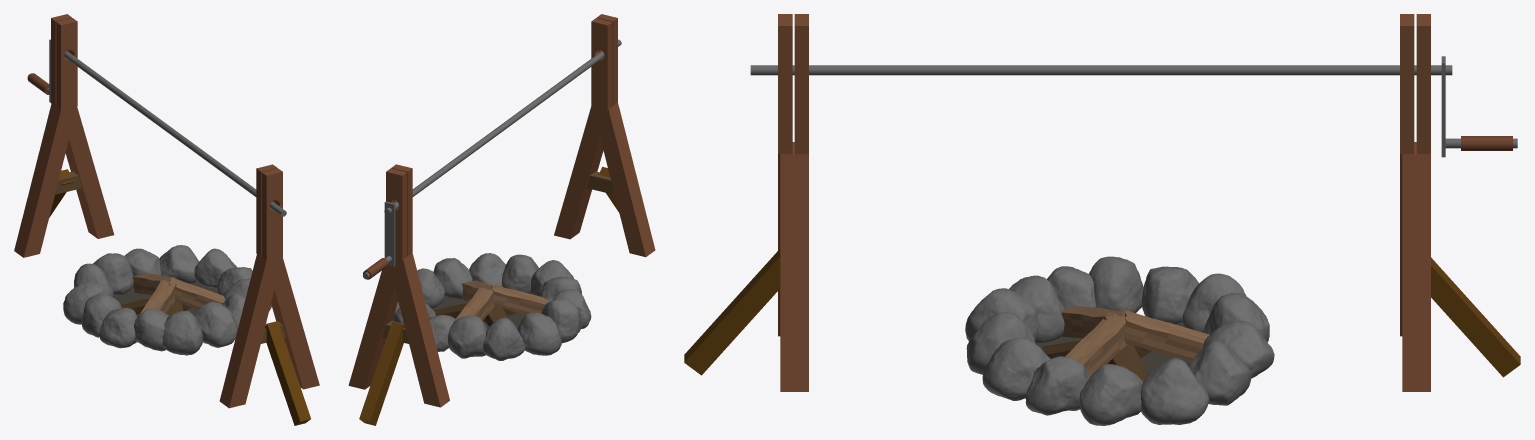
The model's file is dieren spice lod.fbx.
3 views of the same model, side by side, from view 1: azimuth 30°, elevation 25°; view 2: azimuth 150°, elevation 25°; view 3: azimuth 270°, elevation 25° (orthographic). The views are drawn at different scales.
Visible parts, largest first — view 1: Cylinde_LOD0; view 2: Cylinde_LOD0; view 3: Cylinde_LOD0.
Boxes of the visible parts, x1,y1,x2,y2 form: Cylinde_LOD0: [14, 14, 319, 425]; Cylinde_LOD0: [348, 14, 655, 425]; Cylinde_LOD0: [684, 14, 1520, 425].
Size of what is drawn, in the model's own units: 4.78 by 6.07 by 13.01.
